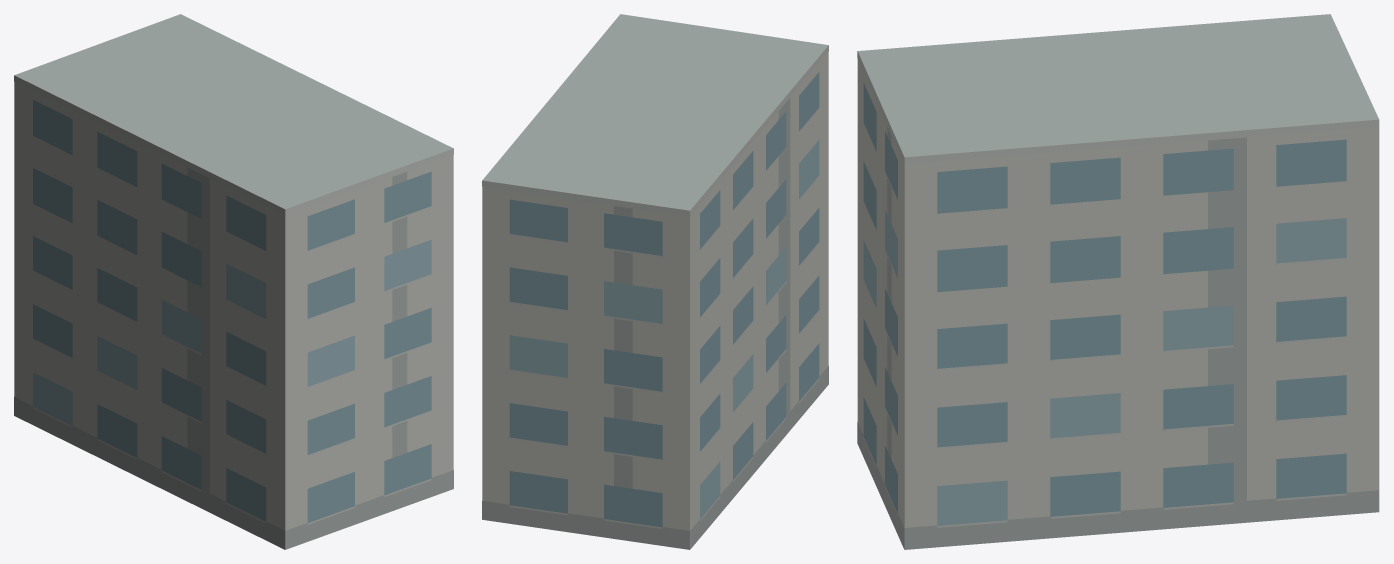
File: survey-upis-32973478.glb
3 views of the same model, side by side, from view 1: azimuth 30°, elevation 25°; view 2: azimuth 150°, elevation 25°; view 3: azimuth 270°, elevation 25° (orthographic). The views are drawn at different scales.
Visible parts, largest first — view 1: survey-upis-32973478.tmp; view 2: survey-upis-32973478.tmp; view 3: survey-upis-32973478.tmp.
Boxes of the visible parts, x1,y1,x2,y2 form: survey-upis-32973478.tmp: (14,14,453,549); survey-upis-32973478.tmp: (482,14,828,549); survey-upis-32973478.tmp: (857,14,1379,549).
Bounding box in the file's own units: 10.26 × 13.1 × 15.79.
